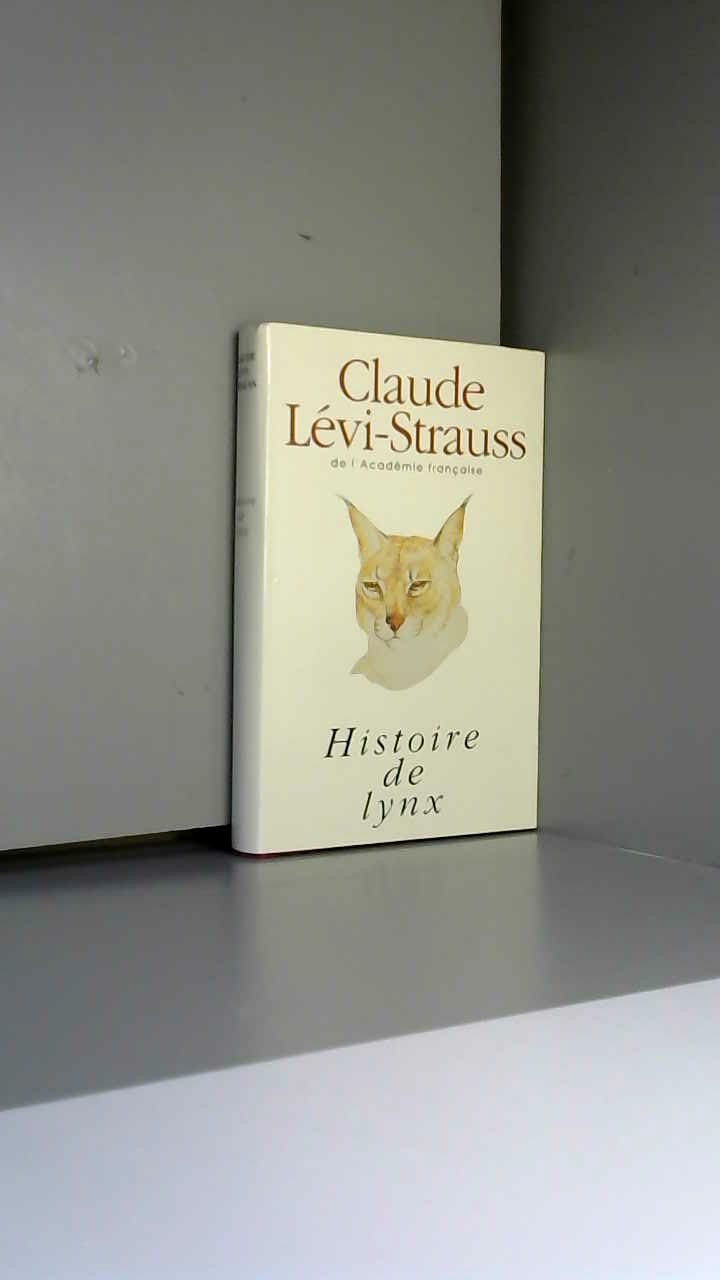book: (189, 293, 592, 895)
